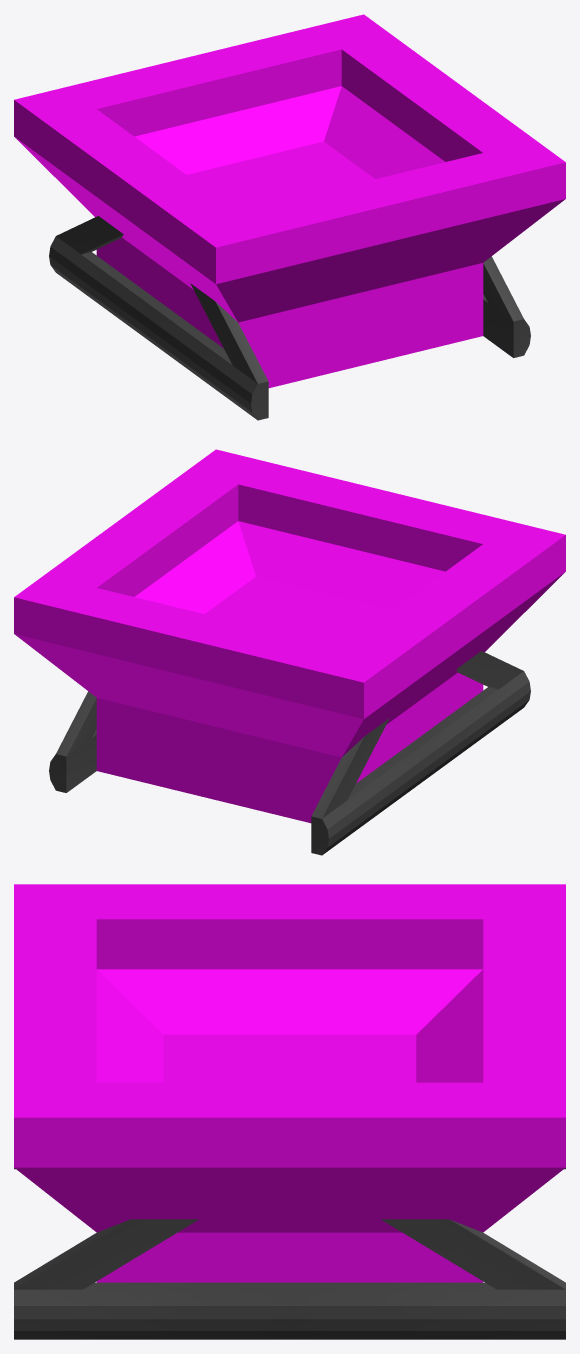
Rendered from conveyor_chute.obj.
3 views of the same model, one above another, from view 1: azimuth 30°, elevation 25°; view 2: azimuth 150°, elevation 25°; view 3: azimuth 270°, elevation 25° (orthographic). The views are drawn at different scales.
Parts seen in each view (by area): view 1: Chute_cchmdl, Support_Alu_smdl_alu; view 2: Chute_cchmdl, Support_Alu_smdl_alu; view 3: Chute_cchmdl, Support_Alu_smdl_alu.
Boxes of the visible parts, bbox=[...] form: Chute_cchmdl: bbox=[14, 14, 565, 388]; Support_Alu_smdl_alu: bbox=[49, 216, 530, 420]; Chute_cchmdl: bbox=[14, 449, 565, 823]; Support_Alu_smdl_alu: bbox=[49, 651, 530, 855]; Chute_cchmdl: bbox=[14, 884, 565, 1282]; Support_Alu_smdl_alu: bbox=[14, 1168, 565, 1339].
Size of the model in its own units: 1 by 0.5 by 1.
